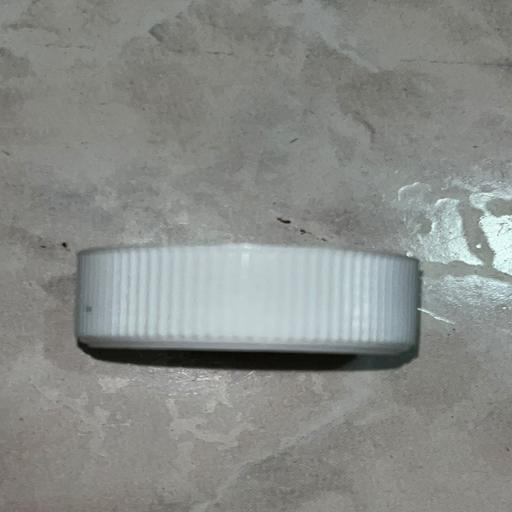HDPE: (64, 209, 481, 430)
